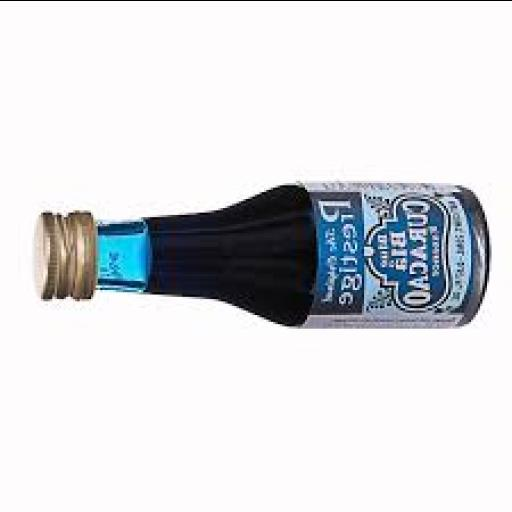blue-bottle: (36, 182, 487, 325)
